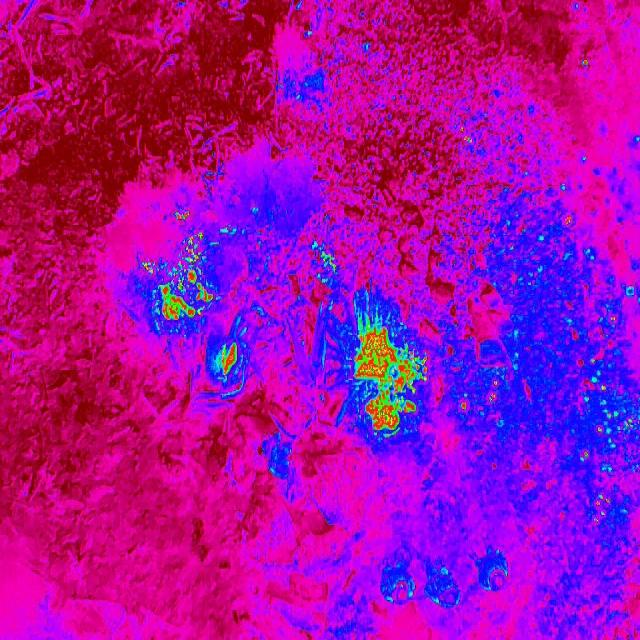fire: (559, 275, 640, 531), (349, 325, 428, 436), (142, 228, 214, 324), (452, 371, 502, 414), (216, 342, 240, 380), (458, 120, 476, 148), (322, 252, 338, 274), (577, 51, 593, 71), (563, 213, 577, 233), (173, 209, 191, 221)
